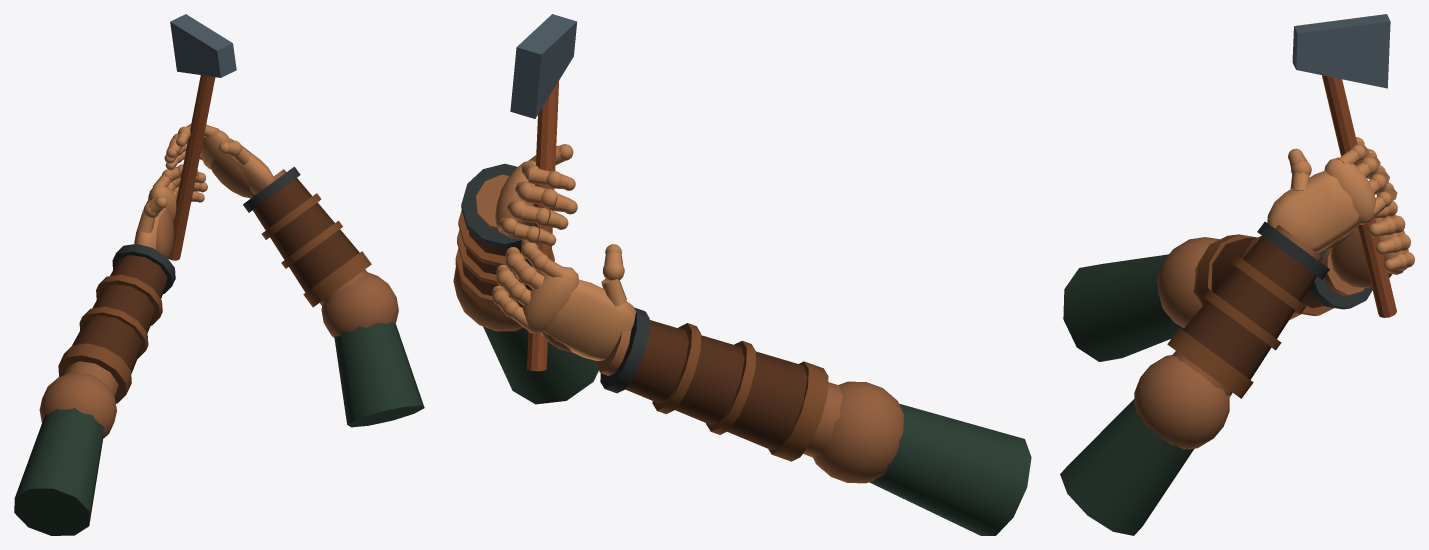
Rendered from first_person_axe_pose.glb.
3 renders of one model, left to right at view 1: azimuth 30°, elevation 25°; view 2: azimuth 150°, elevation 25°; view 3: azimuth 270°, elevation 25°, orthographic. The views are drawn at different scales.
Visible parts, largest first — view 1: AnatomicalArmLeft, AnatomicalArmRight, AxeHead, HandLeft, AxeHandle, HandRight; view 2: AnatomicalArmLeft, AnatomicalArmRight, HandRight, AxeHead, AxeHandle, HandLeft; view 3: AnatomicalArmRight, AnatomicalArmLeft, HandLeft, AxeHead, AxeHandle, HandRight.
Part boxes in pixels (x1,y1,x2,y2): AnatomicalArmLeft: (14, 244, 175, 535); AnatomicalArmRight: (243, 166, 424, 427); AxeHead: (170, 14, 236, 77); HandLeft: (199, 124, 274, 197); AxeHandle: (168, 73, 215, 260); HandRight: (134, 169, 178, 258); AnatomicalArmLeft: (597, 307, 1031, 535); AnatomicalArmRight: (453, 163, 598, 404); HandRight: (503, 254, 636, 360); AxeHead: (510, 14, 577, 118); AxeHandle: (527, 78, 559, 371); HandLeft: (495, 155, 538, 238); AnatomicalArmRight: (1060, 221, 1329, 535); AnatomicalArmLeft: (1063, 234, 1372, 361); HandLeft: (1267, 144, 1391, 253); AxeHead: (1292, 14, 1390, 88); AxeHandle: (1322, 75, 1396, 317); HandRight: (1330, 201, 1414, 287).
Size of the model in its own units: 1.55 by 1.42 by 0.9455.
